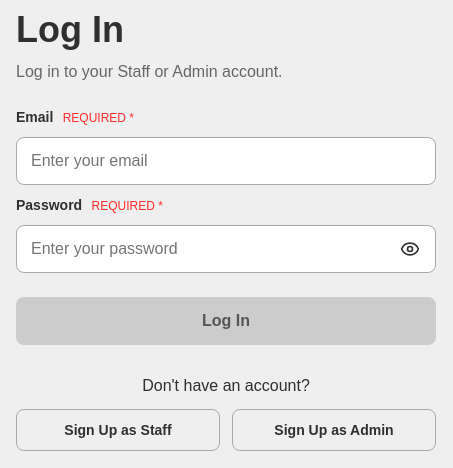
it: Login › accepts first.last+tag@example.com as a valid email address
In the field labelled "Email": (226, 161) [16,137,436,185], type "first.last+tag@example.com"
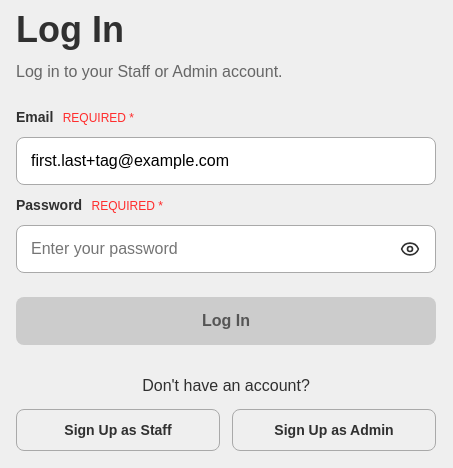
In the password field labelled "Password": (226, 249) [16,225,436,273], type "LocalTestPass123!"
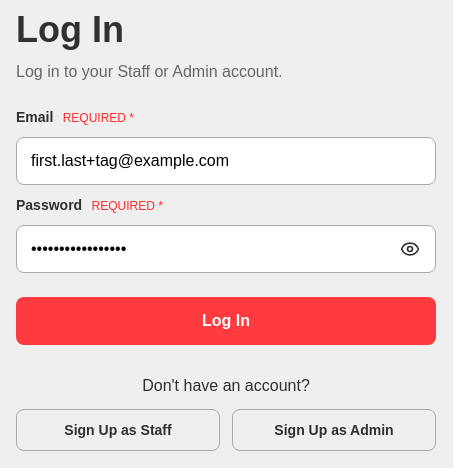
Now the button "Log In" is enabled, box [16,297,436,345]
